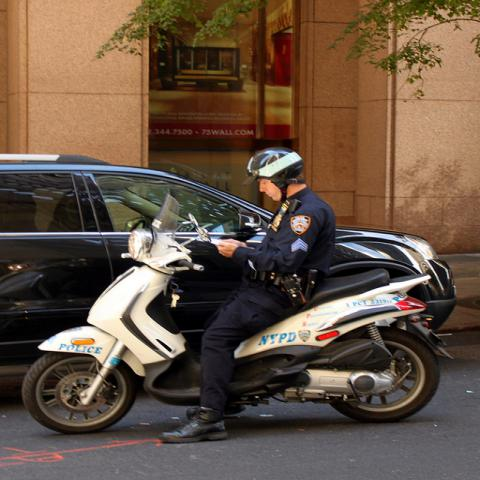car: (0, 162, 460, 372)
motorcycle: (26, 227, 458, 435)
